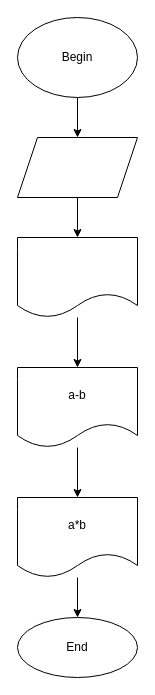
The diagram is 155 pixels wide and 695 high, and some of its shapes have lost their labels. The centre of each missing label's shape, as x and y in pixels:
a+b: point 77,277
a,b: point 77,167
